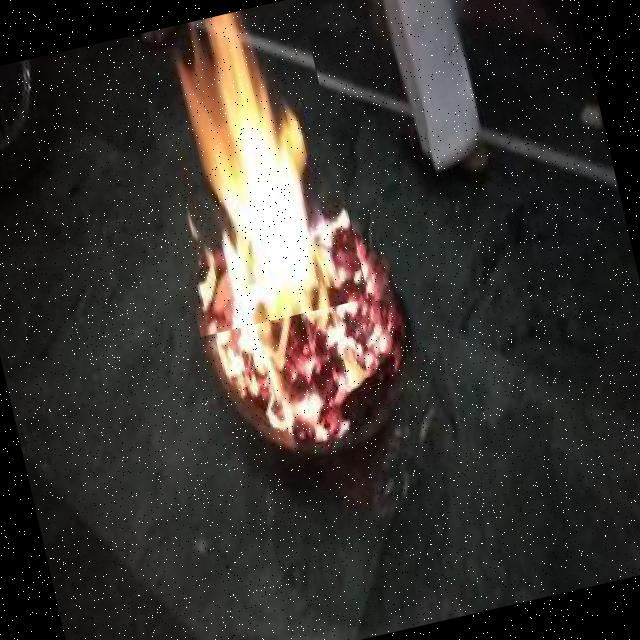fire: (131, 0, 368, 336)
